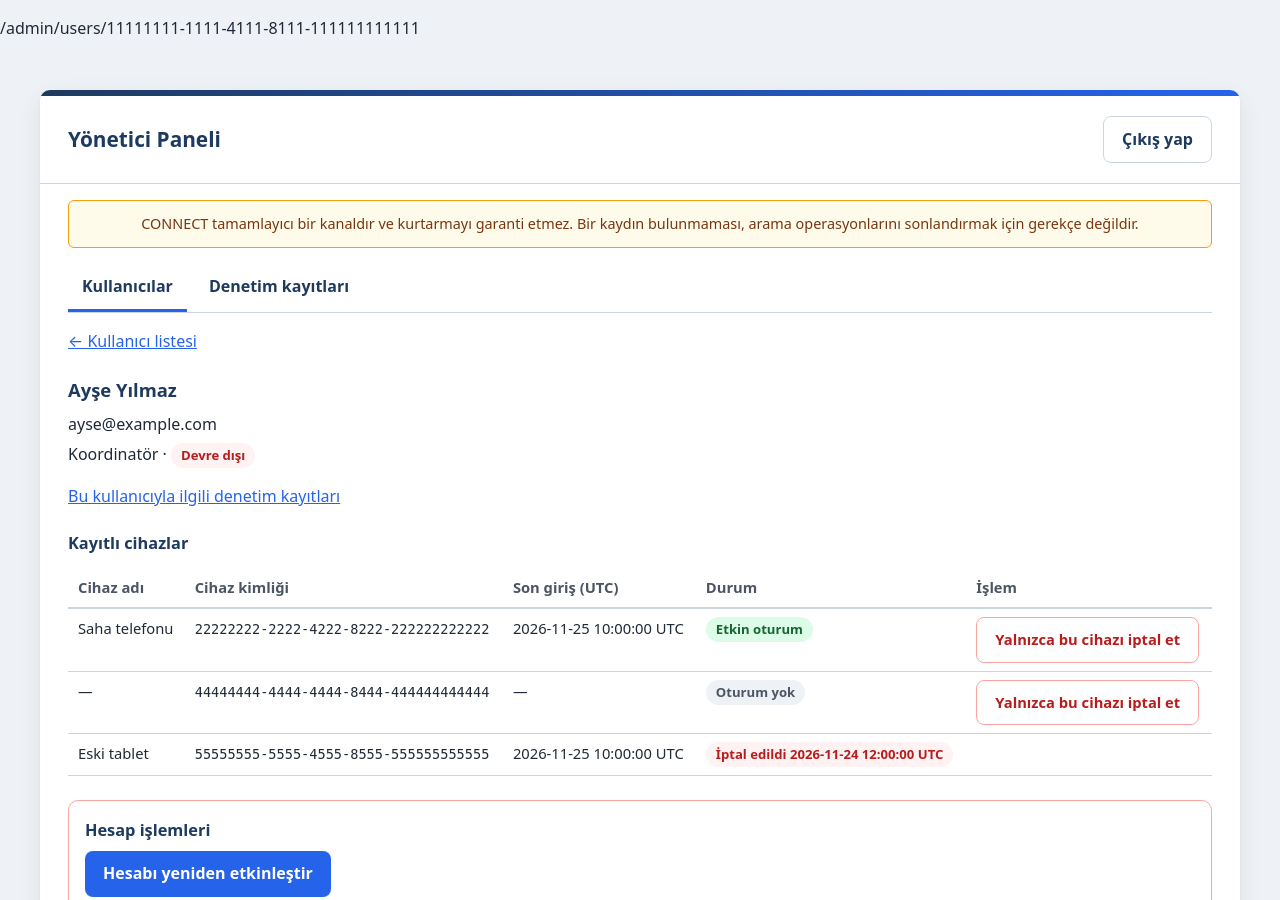
UserDevicesPage › reactivates an inactive account
Click the button "Hesabı yeniden etkinleştir": (208, 874) [85,851,331,897]
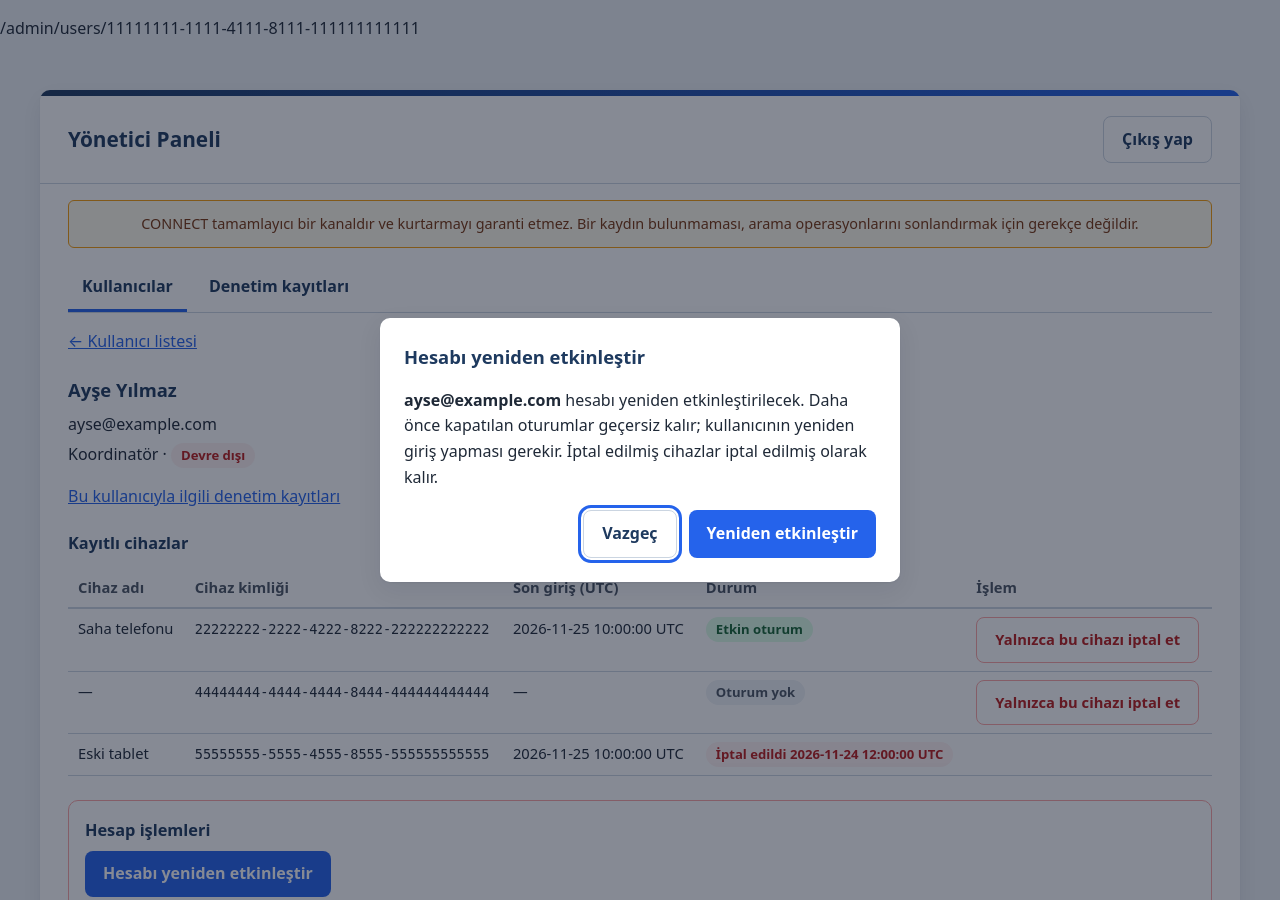
Click the button "Yeniden etkinleştir": (782, 534) [689,510,876,558]
(page scrolled)
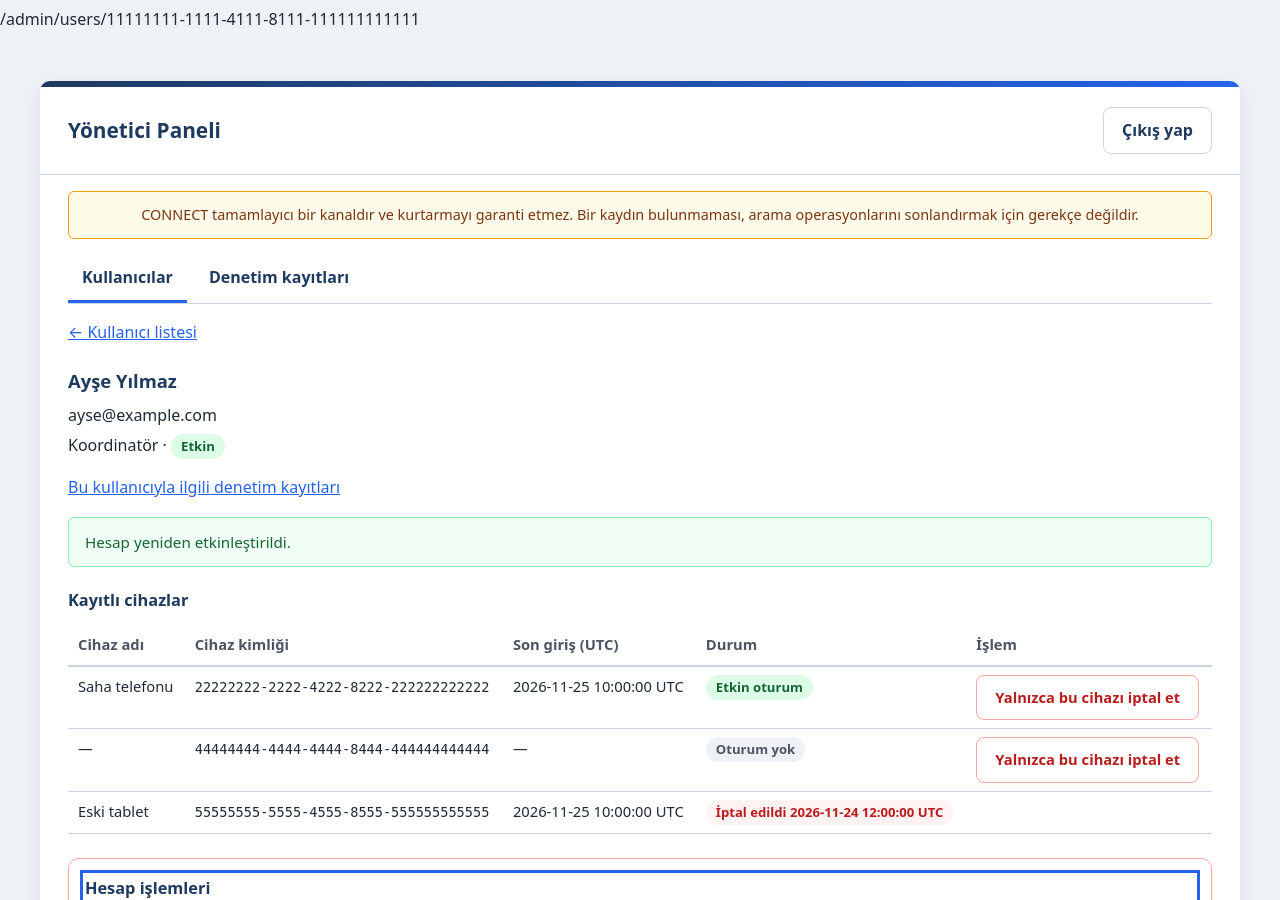
Expected: the text "Hesap yeniden etkinleştirildi." is shown, [68,517,1212,567]
